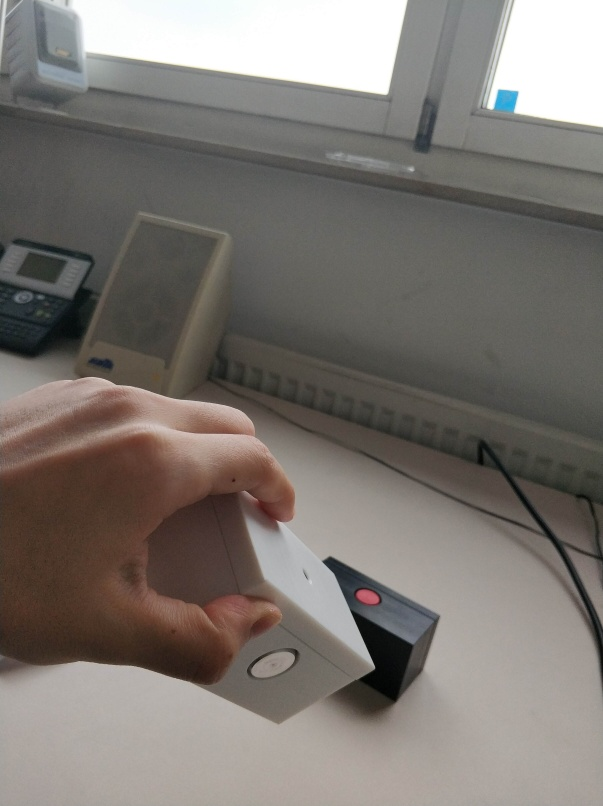black+black+red: (318, 552, 440, 698)
white+white+silver: (154, 482, 379, 726)
